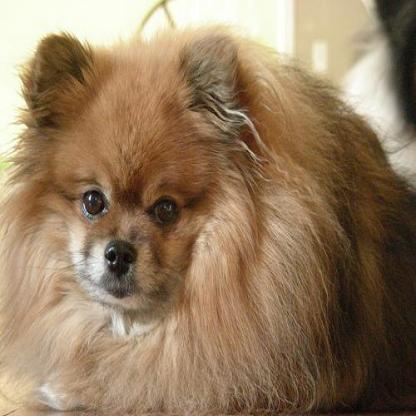Pomeranian: (0, 17, 414, 412)
